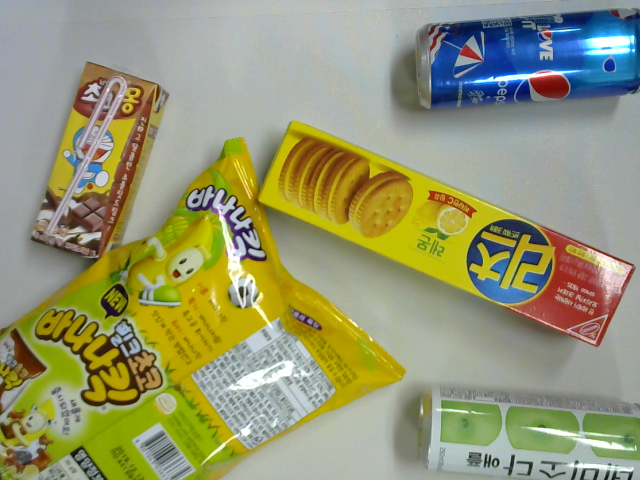Banana_Kick: (1, 134, 406, 480)
Choco_E_Mong: (26, 59, 171, 262)
Demisoda_Apple_Can_250ml: (416, 385, 640, 480)
Pepsi_Cola_Can_250ml: (412, 3, 640, 112)
Ritz_Remon_96g: (254, 119, 634, 350)
